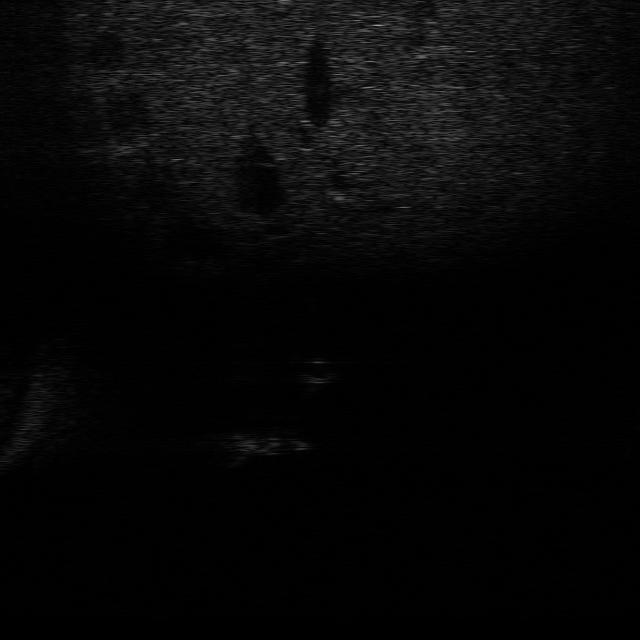ball: (290, 354, 340, 388)
square cage: (216, 427, 312, 468)
